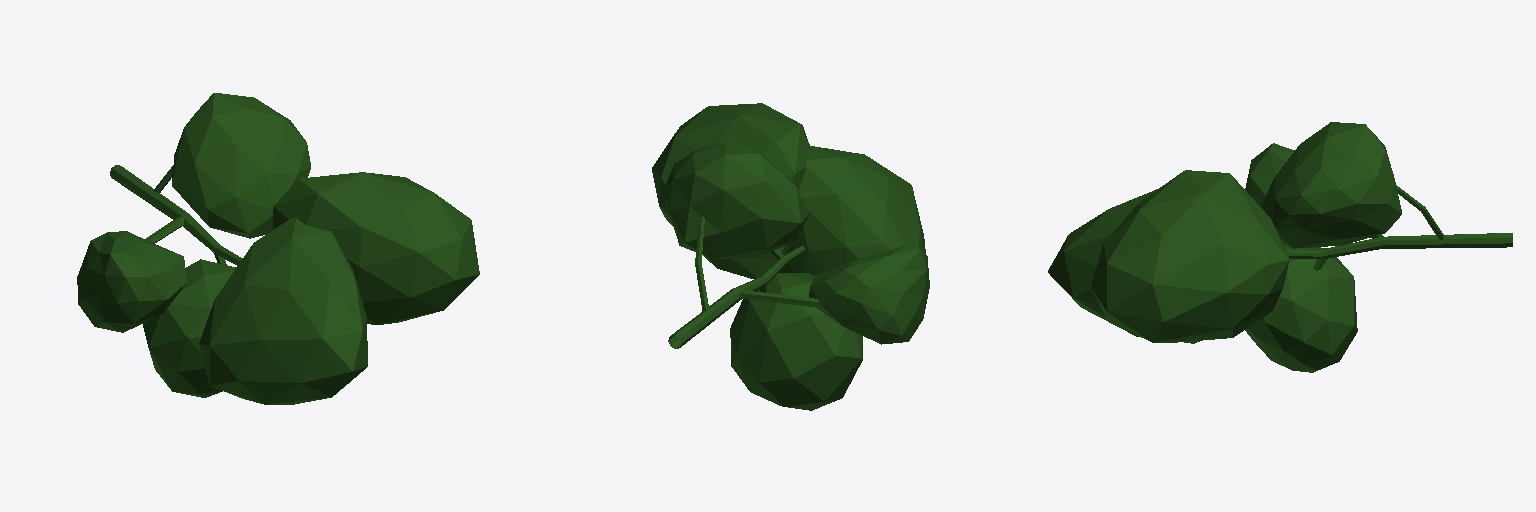
File: birch1.obj
3 views of the same model, side by side, from view 1: azimuth 30°, elevation 25°; view 2: azimuth 150°, elevation 25°; view 3: azimuth 270°, elevation 25° (orthographic).
Visible parts, largest first — view 1: Birch1; view 2: Birch1; view 3: Birch1.
Boxes of the visible parts, <box> form: Birch1: <box>77,93,479,404</box>; Birch1: <box>652,103,929,410</box>; Birch1: <box>1048,122,1512,372</box>.
Size of the model in its own units: 6.1 by 4.89 by 7.81.